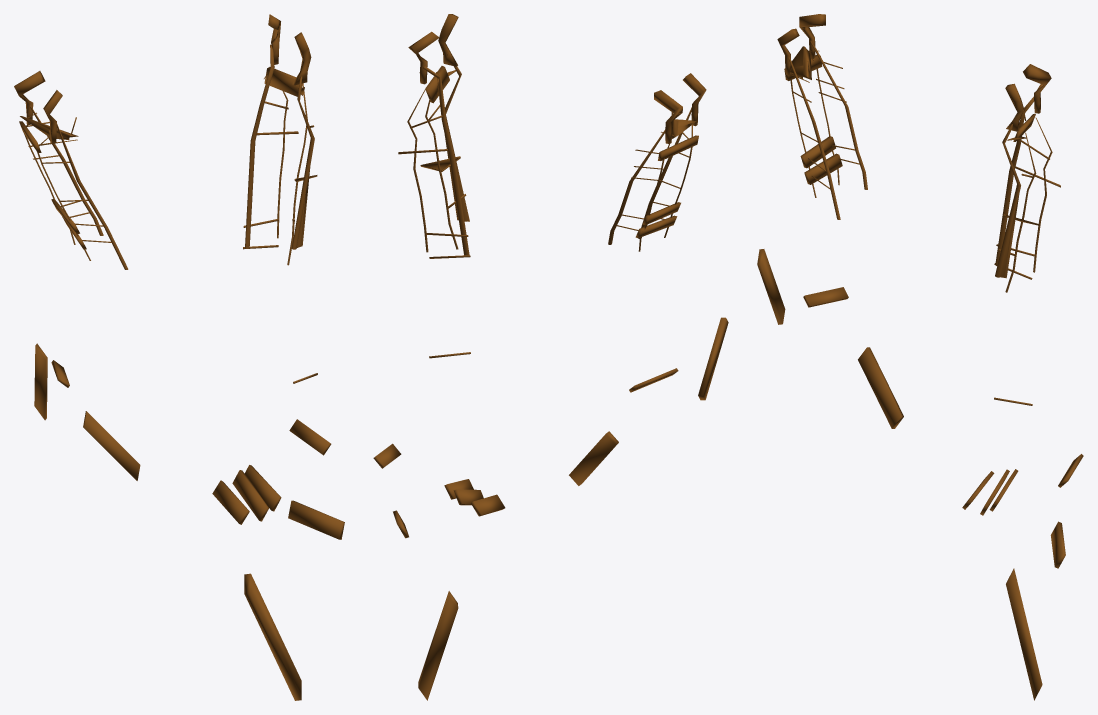
File: Pont_divided_with_anim.fbx
3 renders of one model, left to right at view 1: azimuth 30°, elevation 25°; view 2: azimuth 150°, elevation 25°; view 3: azimuth 330°, elevation 25°, orthographic. The views are drawn at different scales.
Parts seen in each view (by area): view 1: Pont_PartieDroite_001, Pont_partieGauche_001; view 2: Pont_PartieDroite_001, Pont_partieGauche_001; view 3: Pont_PartieDroite_001, Pont_partieGauche_001.
Boxes of the visible parts, <box> form: Pont_PartieDroite_001: <box>212,14,344,700</box>; Pont_partieGauche_001: <box>14,71,140,480</box>; Pont_PartieDroite_001: <box>373,14,505,700</box>; Pont_partieGauche_001: <box>569,73,728,485</box>; Pont_PartieDroite_001: <box>962,64,1083,700</box>; Pont_partieGauche_001: <box>757,14,903,428</box>.
Bounding box in the file's own units: 103 × 209 × 28.68.
